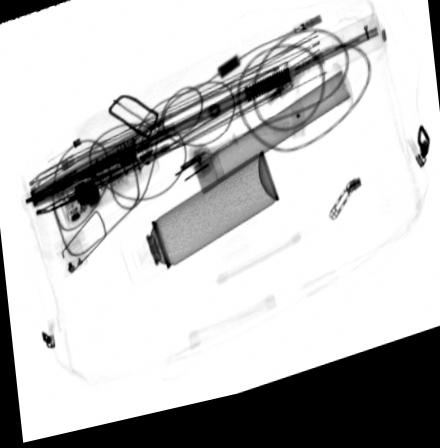Sprayer: (116, 160, 281, 293)
